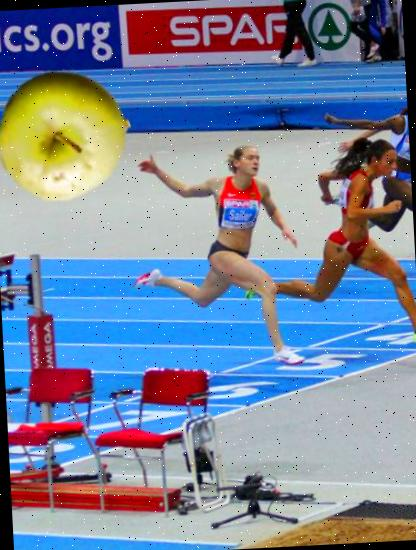Apple: (0, 63, 132, 203)
